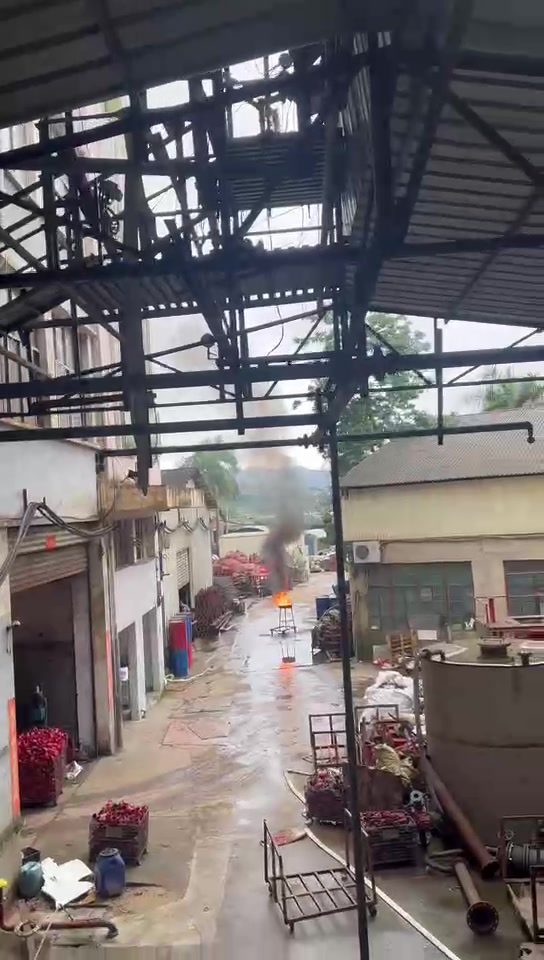fire: (273, 590, 291, 605)
